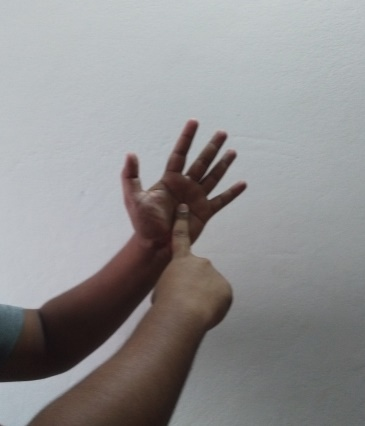oo: (118, 119, 249, 322)
